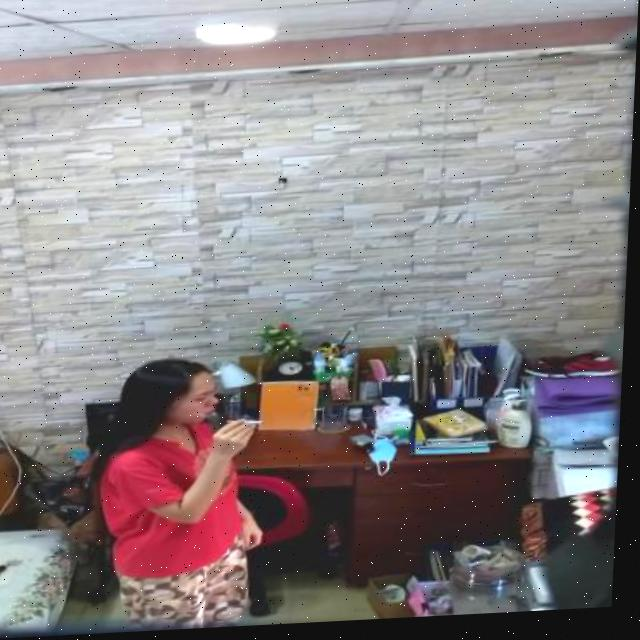cigarette: (248, 422, 269, 427)
